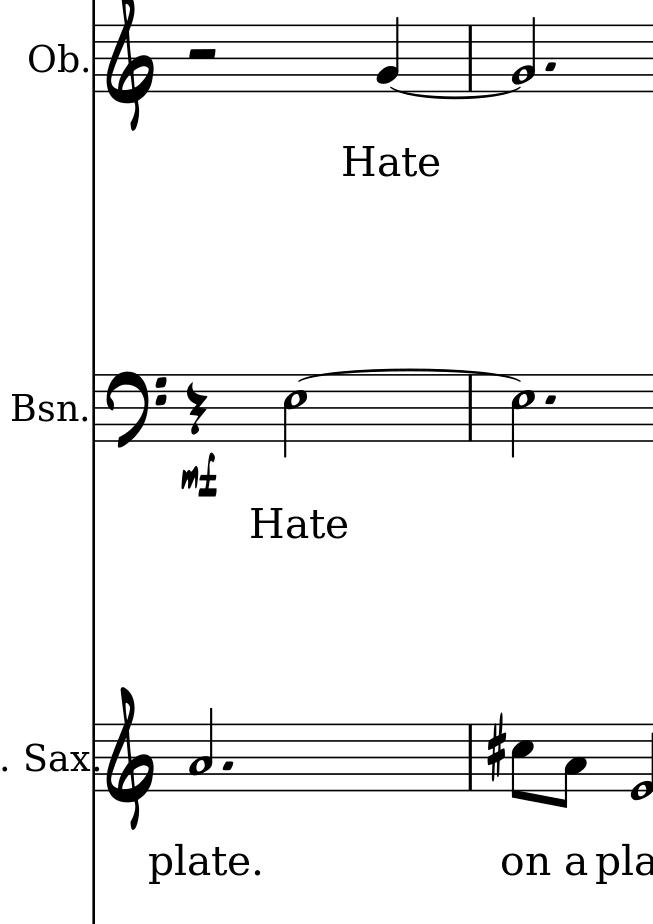2_2: (511, 15, 537, 95)
2_3: (190, 706, 215, 793)
2_5: (282, 373, 309, 459), (510, 373, 535, 456)
4_2: (375, 16, 401, 94)
8_3: (552, 721, 587, 810)
8_5: (509, 722, 535, 801)
Bsn: (11, 390, 81, 425)
Fclef: (104, 367, 170, 449)
Gclef: (106, 686, 155, 831), (106, 1, 155, 130)
Ob: (26, 40, 78, 75)
Rests2: (182, 47, 219, 62)
Rests4: (184, 380, 207, 440)
Sax: (22, 742, 91, 774)
Sharp: (484, 712, 506, 784)
Single_barline: (296, 367, 526, 384), (462, 724, 479, 790), (87, 374, 103, 441), (462, 26, 479, 89), (88, 725, 102, 793), (88, 27, 102, 93), (464, 376, 477, 440)
dot: (542, 391, 558, 407), (542, 59, 560, 73), (219, 757, 234, 772)
mf: (179, 450, 219, 500)
